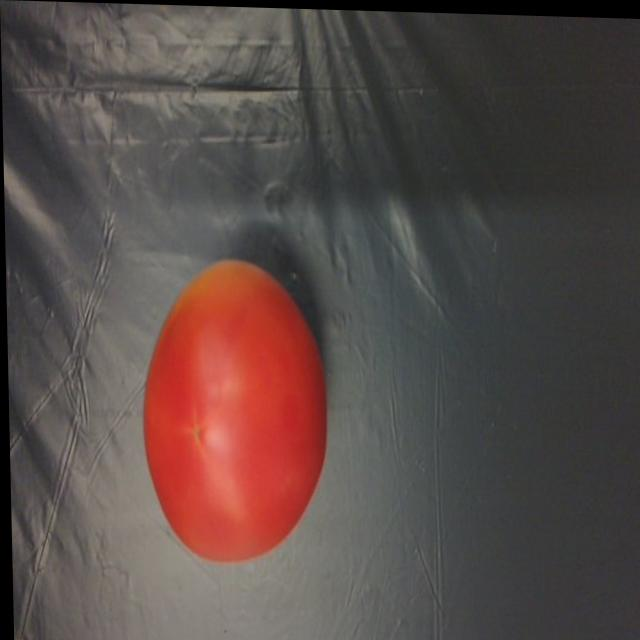kirmizi: (110, 240, 348, 568)
